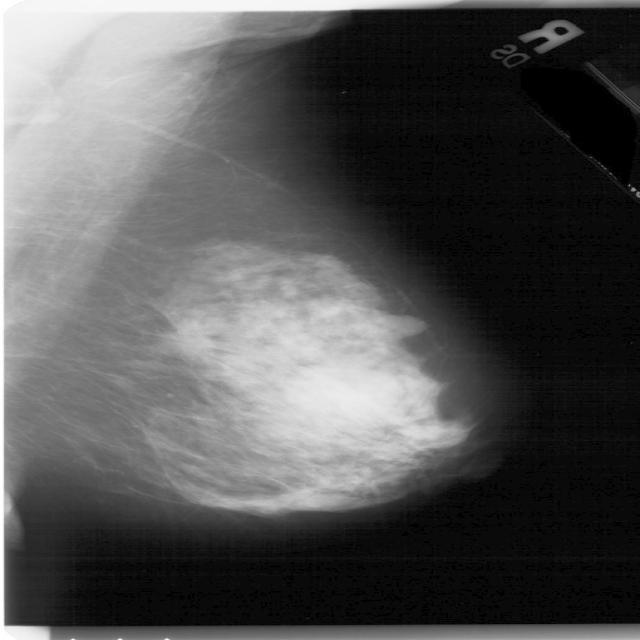tumour: (166, 318, 220, 361)
